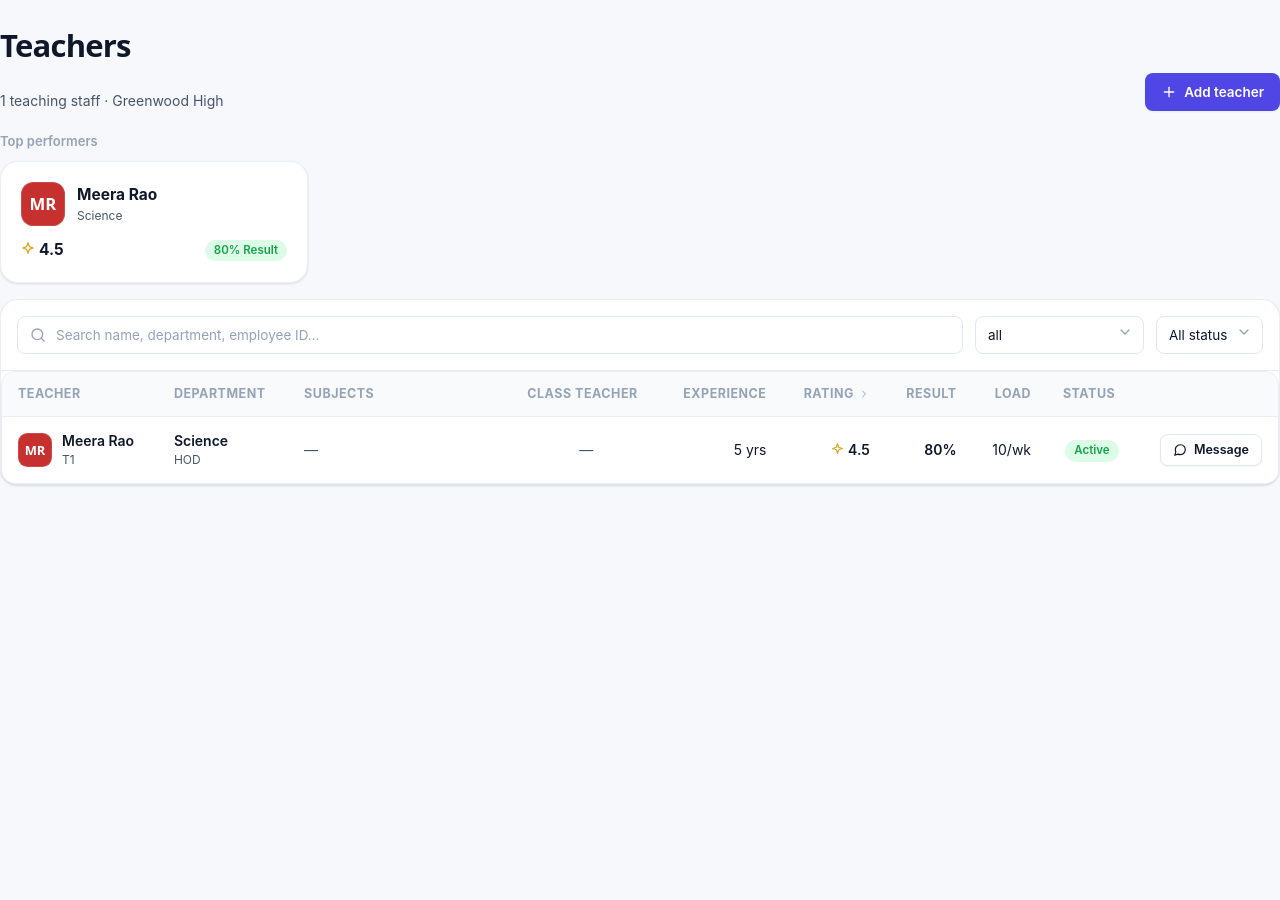
Test case: Teacher profile — App access card › does not offer Suspend for a pending invite
The width and height of the screenshot is (1280, 900).
Expected: the 1st text "Meera Rao" is shown, [77,183,157,207]
Click the text "Meera Rao" in the row of "yrs". click: (98,441)
box: [62,430,134,452]
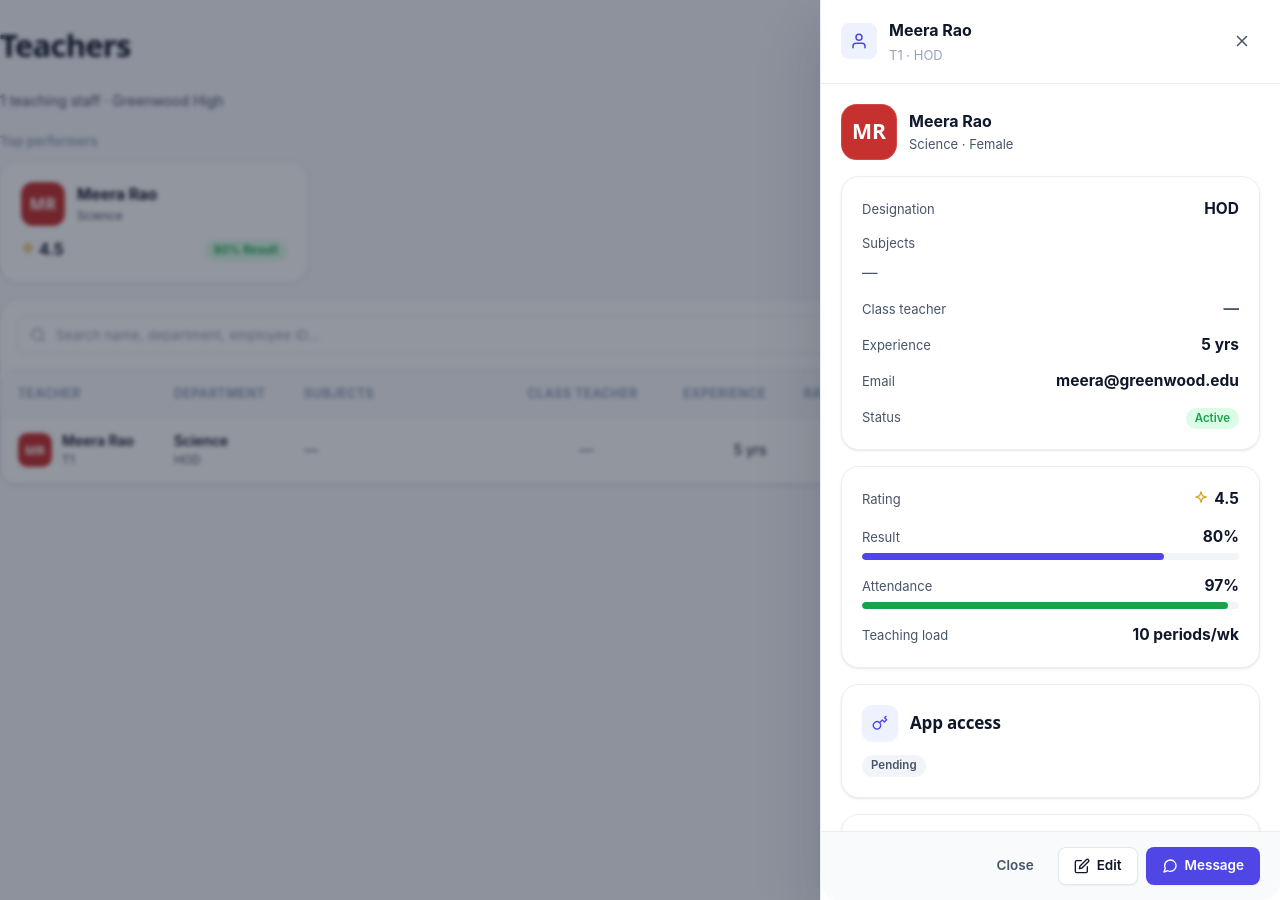
Expected: the text "pending" is shown, [862,756,926,777]
